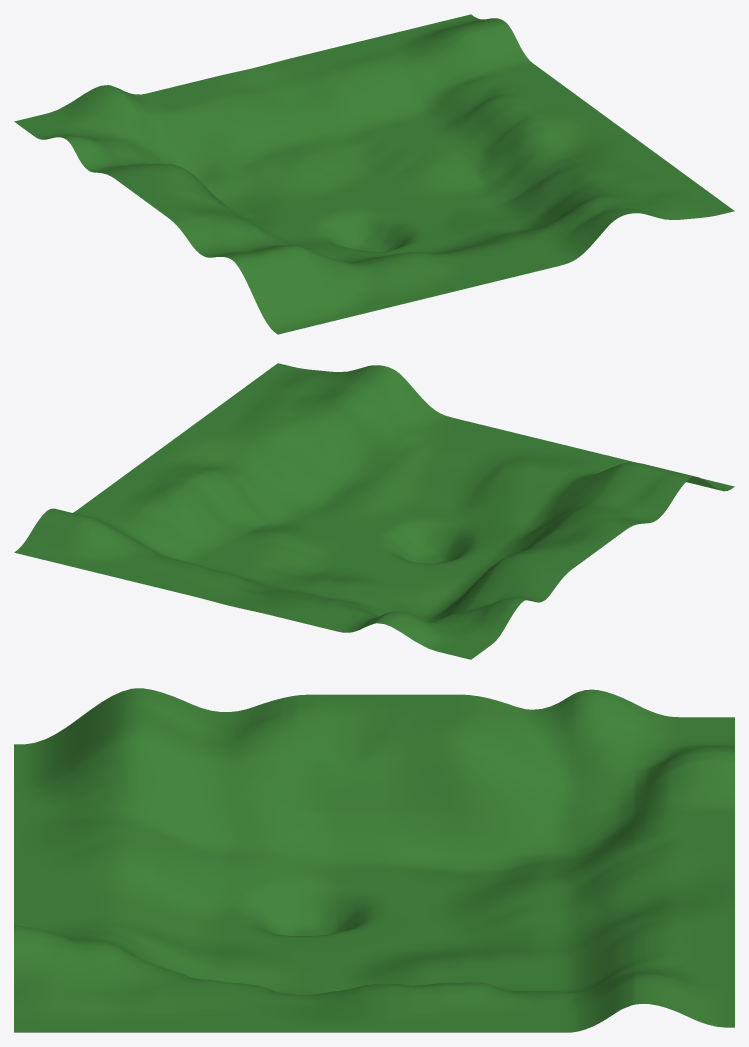
Rendered from terrain.fbx.
The picture shows the model from 3 angles, top to bottom: view 1: azimuth 30°, elevation 25°; view 2: azimuth 150°, elevation 25°; view 3: azimuth 270°, elevation 25°; orthographic projection. The views are drawn at different scales.
Visible parts, largest first — view 1: pPlane1; view 2: pPlane1; view 3: pPlane1.
Part boxes in pixels (x1,y1,x2,y2): pPlane1: (14,14,734,334); pPlane1: (14,363,734,659); pPlane1: (14,688,734,1032).
Bounding box in the file's own units: 30 × 5.31 × 30.
